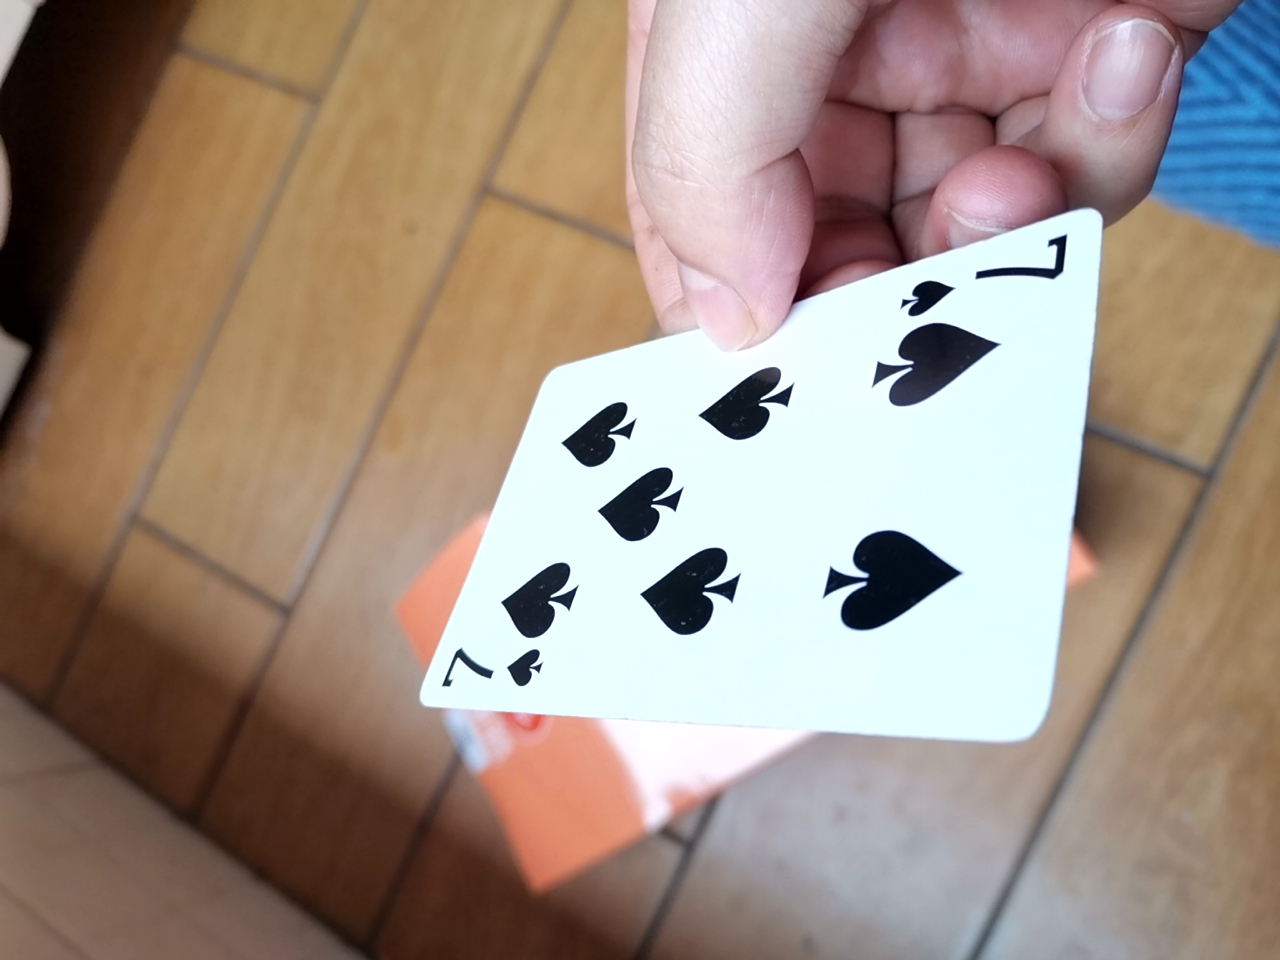ht 7: (409, 230, 1117, 803)
